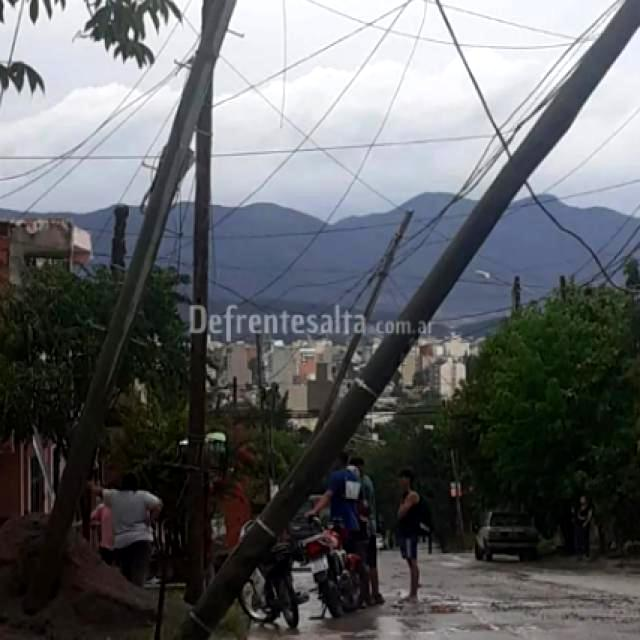Broken Pole: (173, 3, 638, 634), (22, 0, 236, 609)
